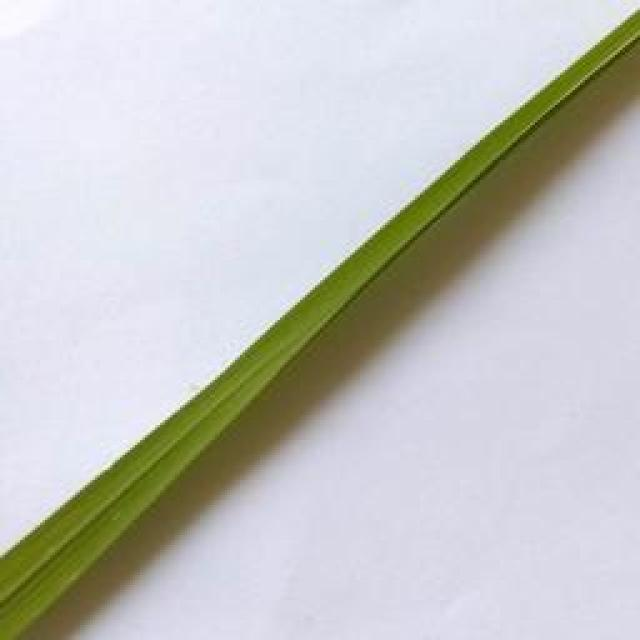Healthy-Plant: (1, 9, 640, 640)
